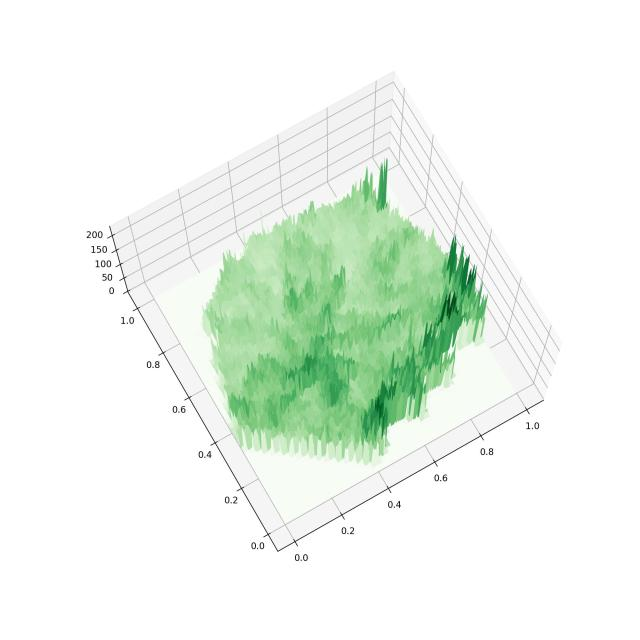spruce: (52, 38, 580, 582)
